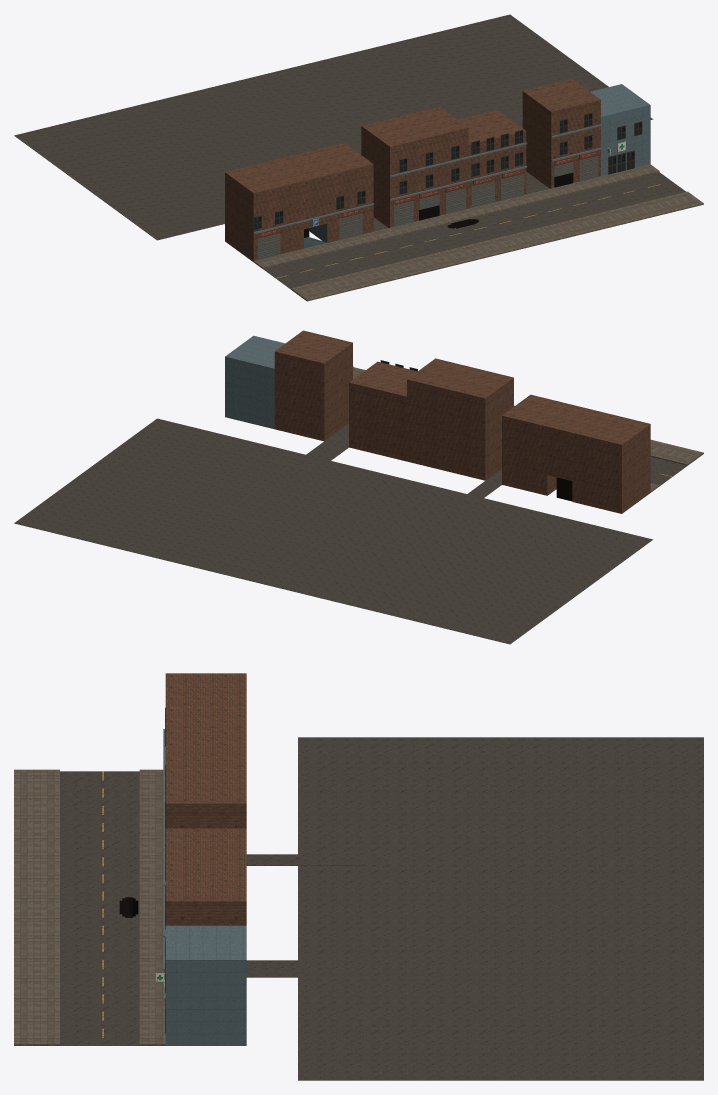
The model's file is shell.gltf.
3 views of the same model, one above another, from view 1: azimuth 30°, elevation 25°; view 2: azimuth 150°, elevation 25°; view 3: azimuth 270°, elevation 25° (orthographic). The views are drawn at different scales.
Visible parts, largest first — view 1: shell; view 2: shell; view 3: shell.
Boxes of the visible parts, <box> form: shell: <box>14,14,703,301</box>; shell: <box>14,330,703,644</box>; shell: <box>14,673,703,1080</box>.
Size of the model in its own units: 60 by 10.9 by 51.
13 materials, 12 textured.
